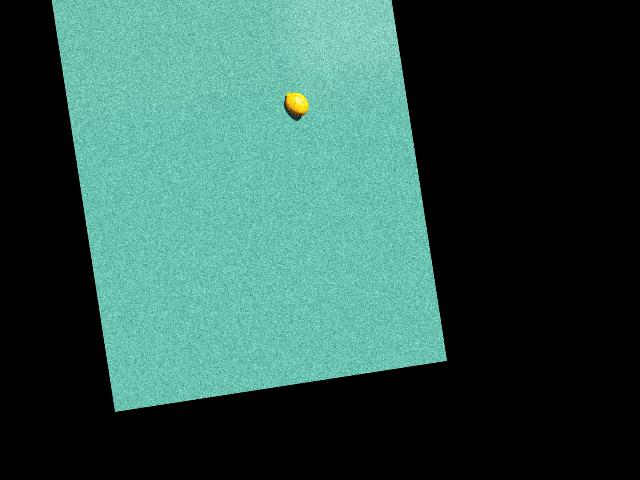lemon: (280, 88, 310, 125)
